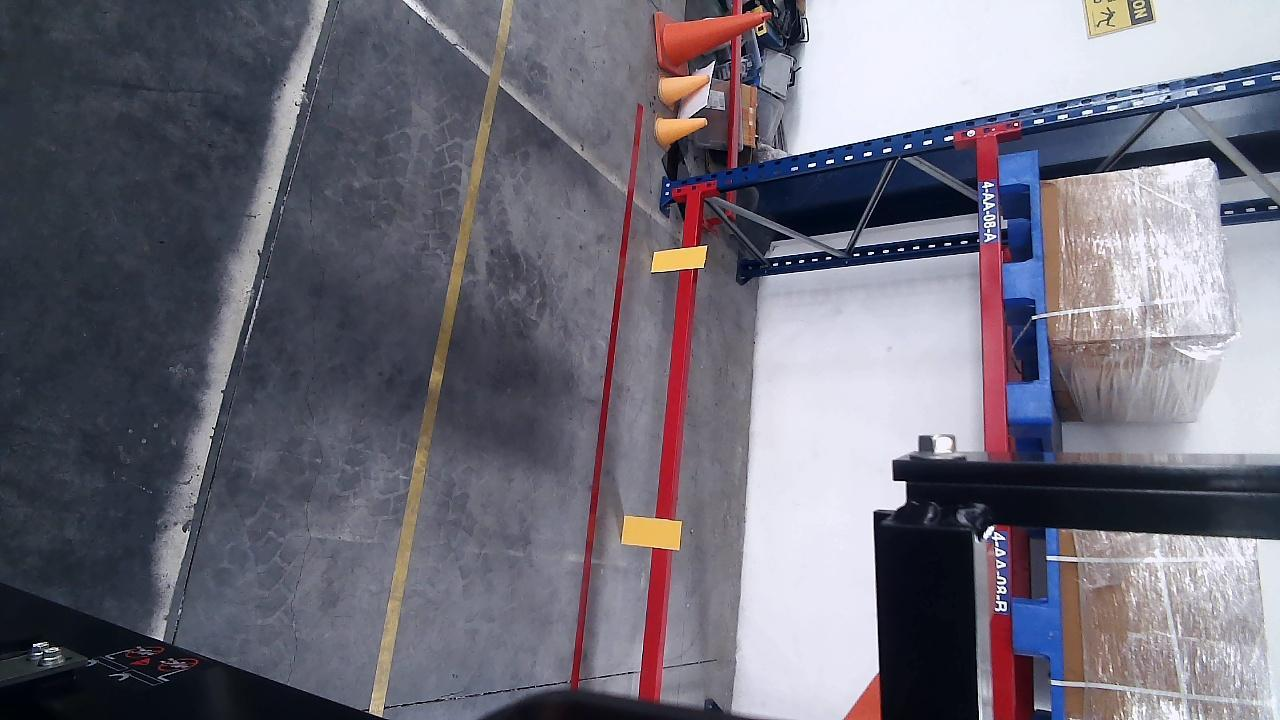h_rack: (641, 191, 700, 700), (978, 130, 1008, 453)
orange_strip: (622, 513, 683, 546), (652, 245, 705, 272)
red_line: (568, 103, 648, 684)
small_pallet: (996, 148, 1054, 421)
yellow_line: (368, 0, 514, 717)
